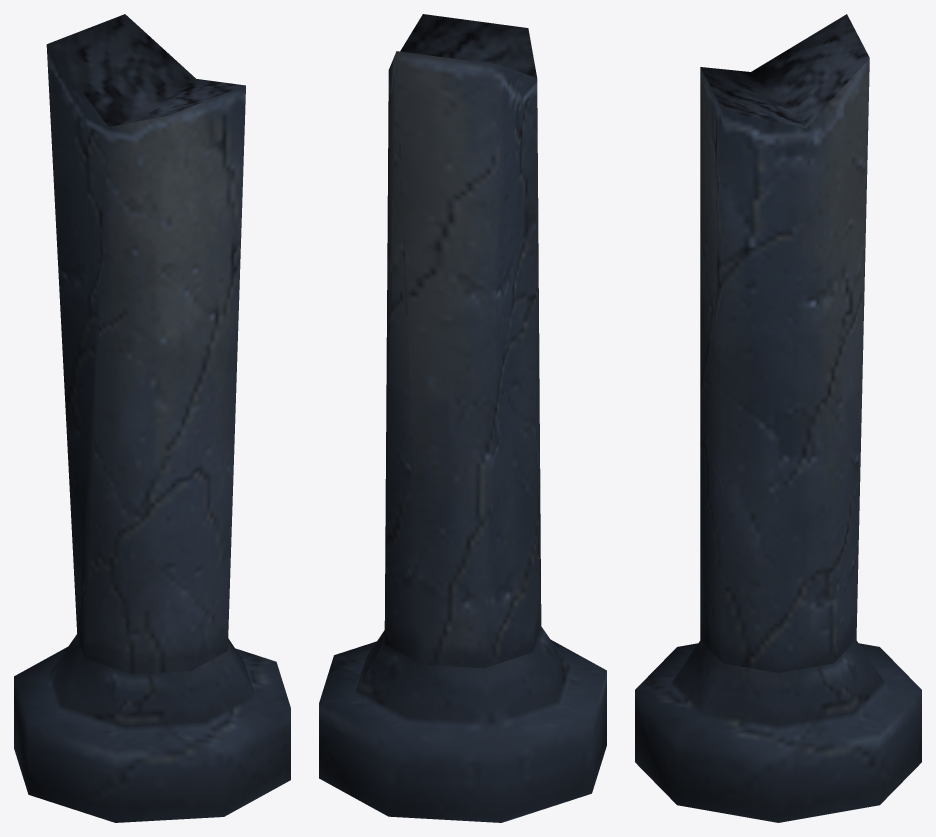
File: poshizhu1.FBX
3 renders of one model, left to right at view 1: azimuth 30°, elevation 25°; view 2: azimuth 150°, elevation 25°; view 3: azimuth 270°, elevation 25°, orthographic. The views are drawn at different scales.
Parts seen in each view (by area): view 1: poshizhu; view 2: poshizhu; view 3: poshizhu.
Boxes of the visible parts, left/top/right/bottom form: poshizhu: left=14, top=14, right=290, bottom=822; poshizhu: left=319, top=14, right=606, bottom=822; poshizhu: left=635, top=14, right=921, bottom=822.
Bounding box in the file's own units: 423 × 423 × 1160.
